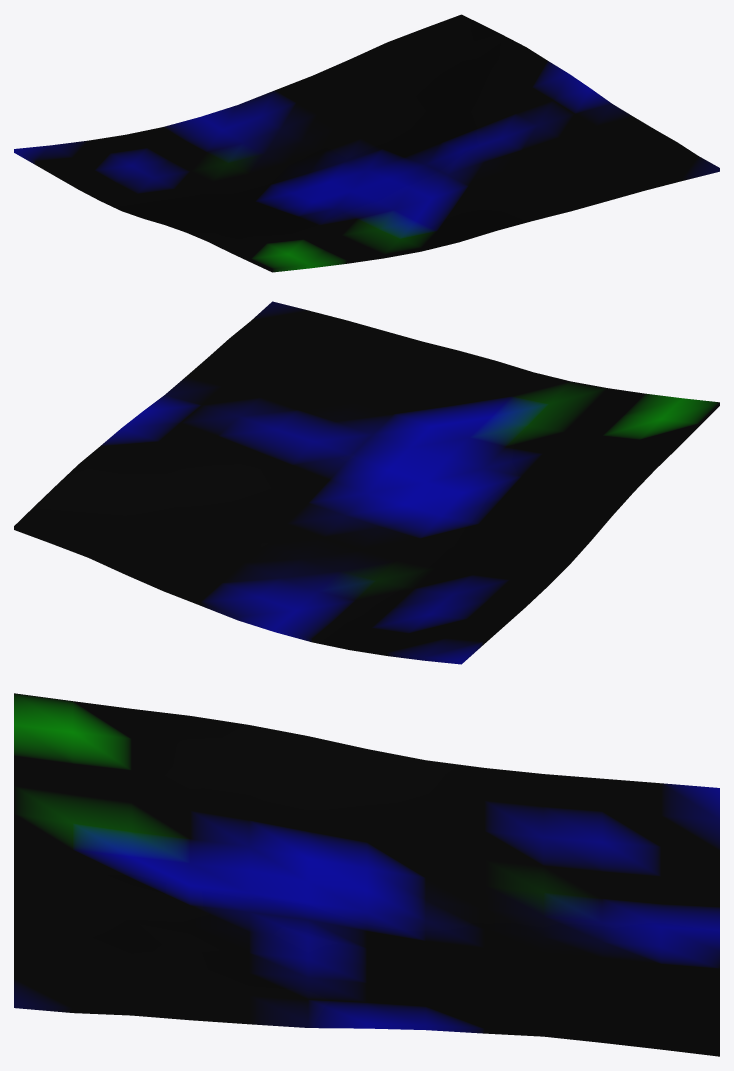
File: coast_22_0.glb
The picture shows the model from 3 angles, top to bottom: view 1: azimuth 30°, elevation 25°; view 2: azimuth 150°, elevation 25°; view 3: azimuth 270°, elevation 25°; orthographic projection. The views are drawn at different scales.
Parts seen in each view (by area): view 1: terrain; view 2: terrain; view 3: terrain.
Part boxes in pixels (x1,y1,x2,y2): terrain: [14, 14, 719, 272]; terrain: [14, 301, 719, 664]; terrain: [14, 693, 719, 1056].
Size of the model in its own units: 192 by 35.81 by 192.
